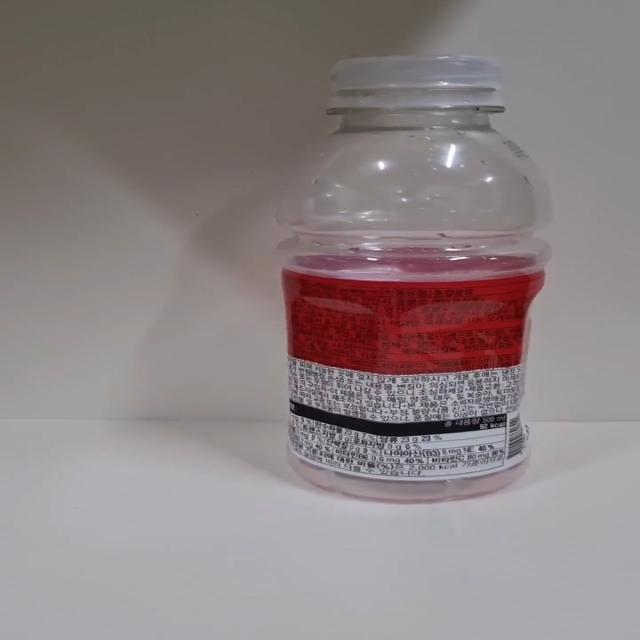Plastic: (274, 56, 553, 505)
